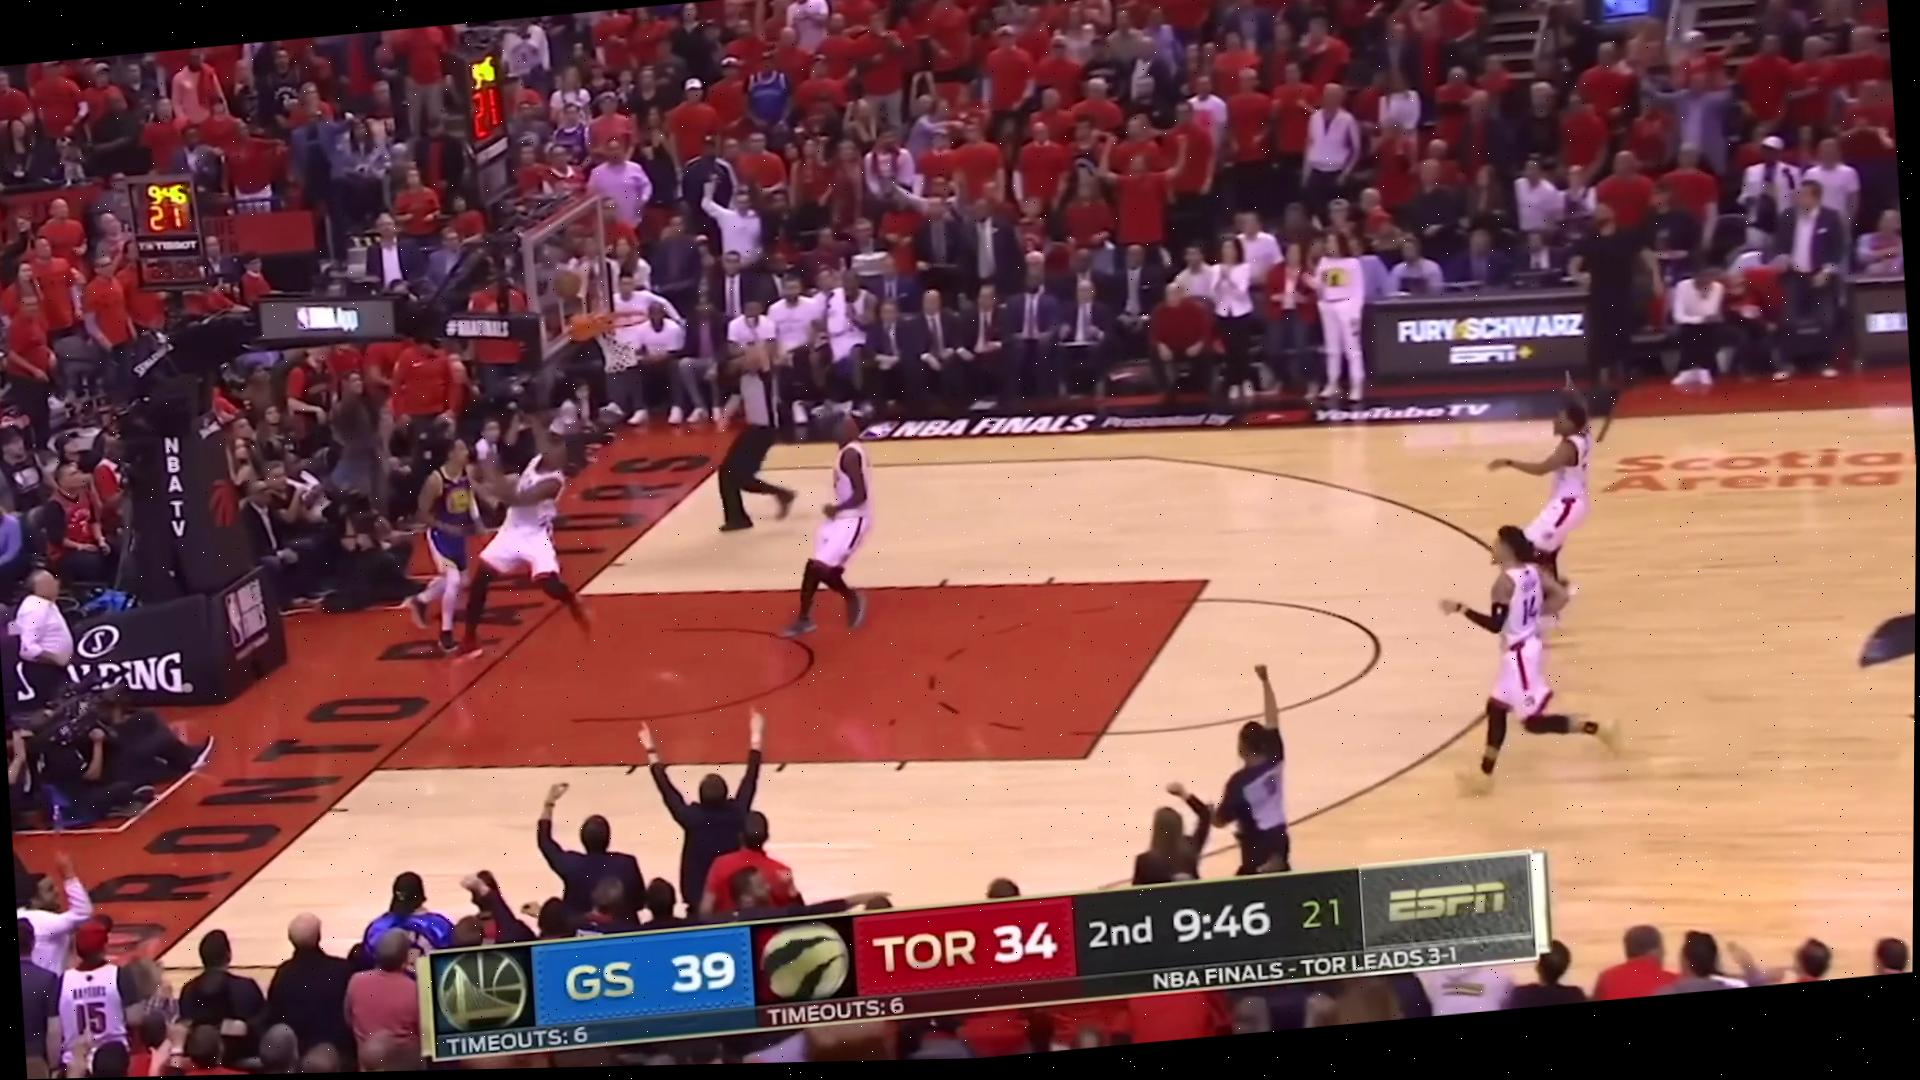foul: (397, 402, 618, 663)
